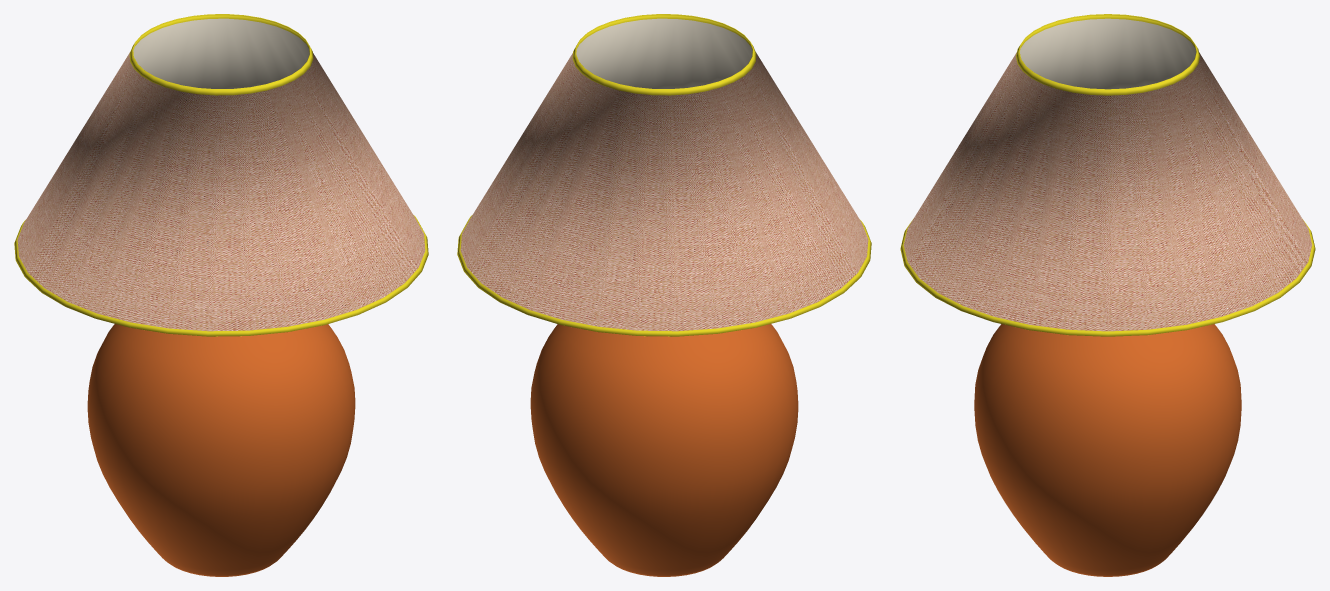
Rendered from simple-orange-lamp.glb.
3 views of the same model, side by side, from view 1: azimuth 30°, elevation 25°; view 2: azimuth 150°, elevation 25°; view 3: azimuth 270°, elevation 25° (orthographic).
Parts seen in each view (by area): view 1: LampShade_Cylinder.001, Lamp_Plane; view 2: LampShade_Cylinder.001, Lamp_Plane; view 3: LampShade_Cylinder.001, Lamp_Plane.
Part boxes in pixels (x1,y1,x2,y2): LampShade_Cylinder.001: [14, 14, 428, 336]; Lamp_Plane: [87, 324, 355, 576]; LampShade_Cylinder.001: [457, 14, 871, 336]; Lamp_Plane: [530, 324, 798, 576]; LampShade_Cylinder.001: [900, 14, 1315, 336]; Lamp_Plane: [974, 324, 1241, 576].
Bounding box in the file's own units: 0.5257 × 0.7 × 0.5257.
Materials: 7 (1 with a texture image).
